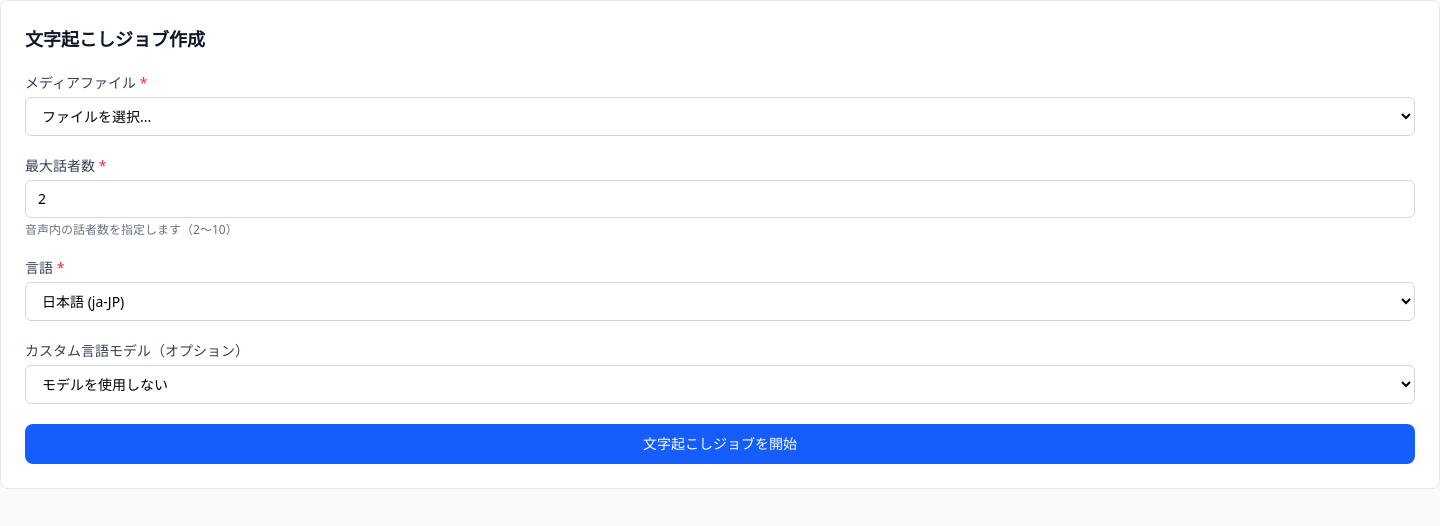
TranscriptionJobForm › validation › shows error when MaxSpeakerLabels exceeds 10
Select "会議録音.mp3" in the dropdown labelled "メディアファイル *" at [720, 116], box [25, 97, 1415, 136]
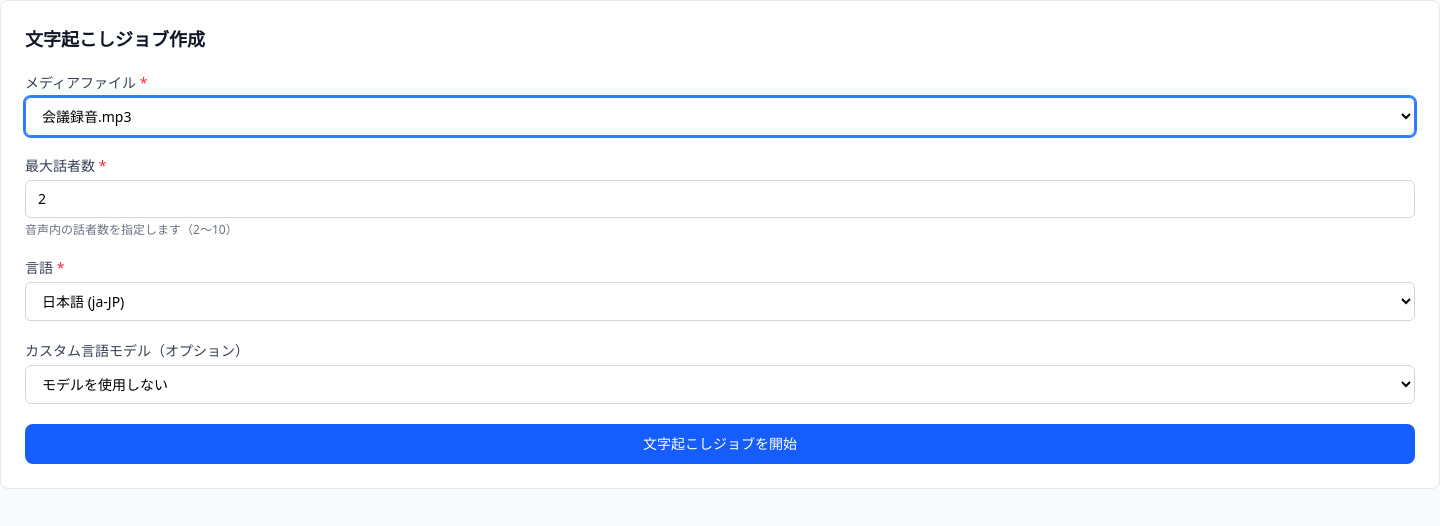
Replace the text in the number field labelled "最大話者数 *" with "11" at [720, 199], box [25, 180, 1415, 218]
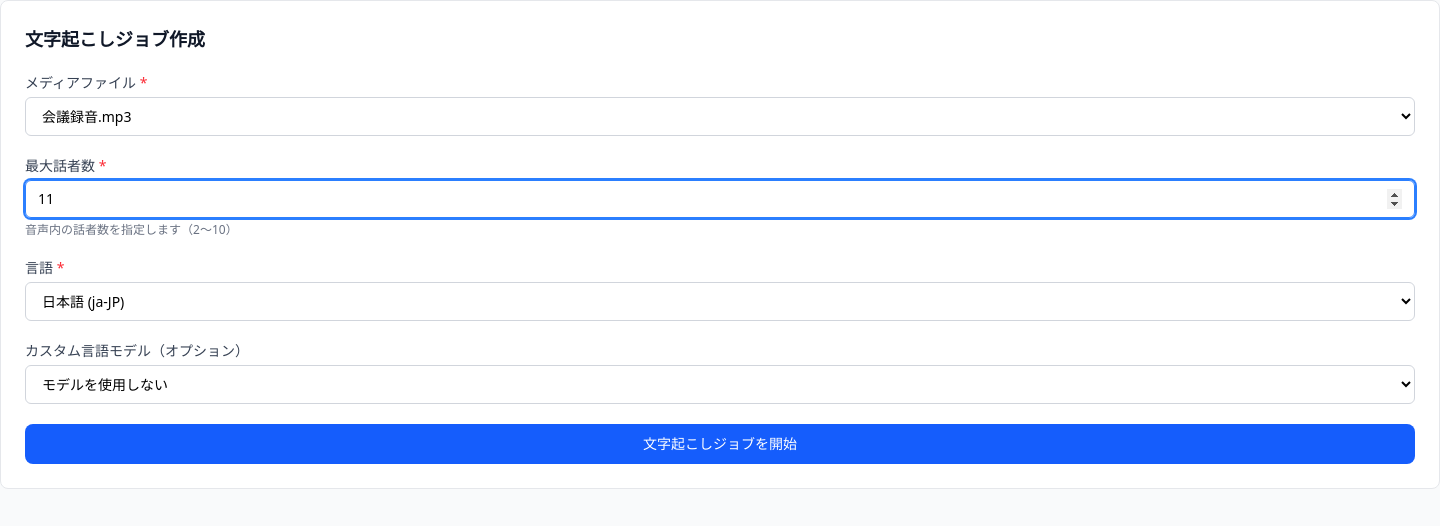
Click the button "文字起こしジョブを開始".
click(720, 444)  # box [25, 424, 1415, 464]
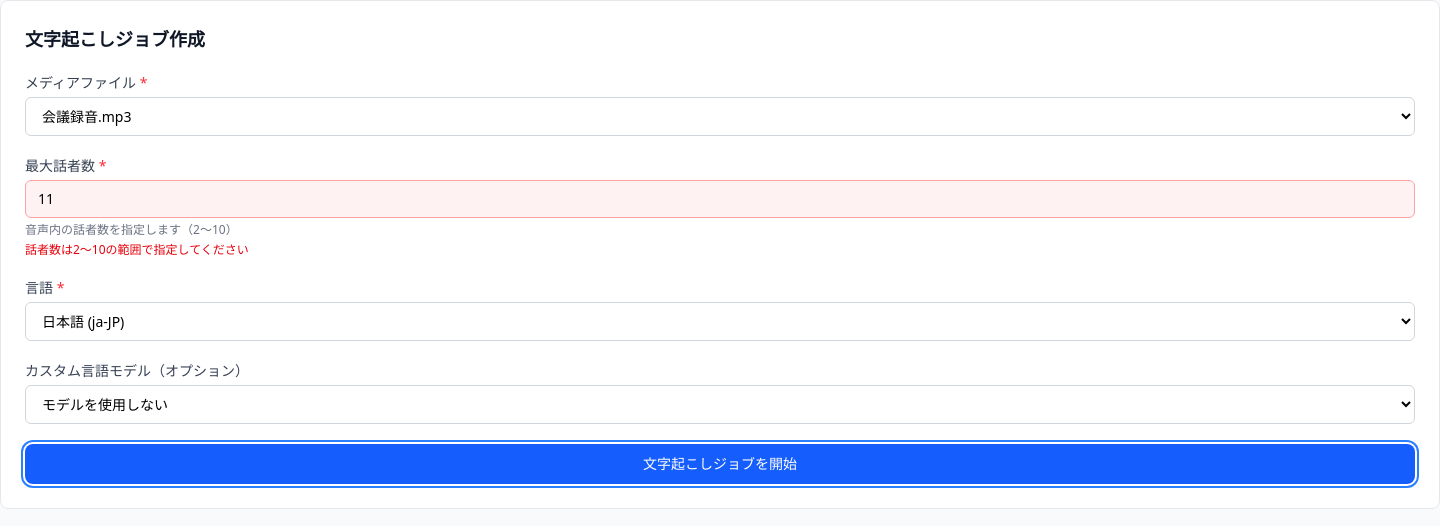
Now the text "話者数は2〜10の範囲で指定してください" is shown, box [25, 241, 249, 258]
